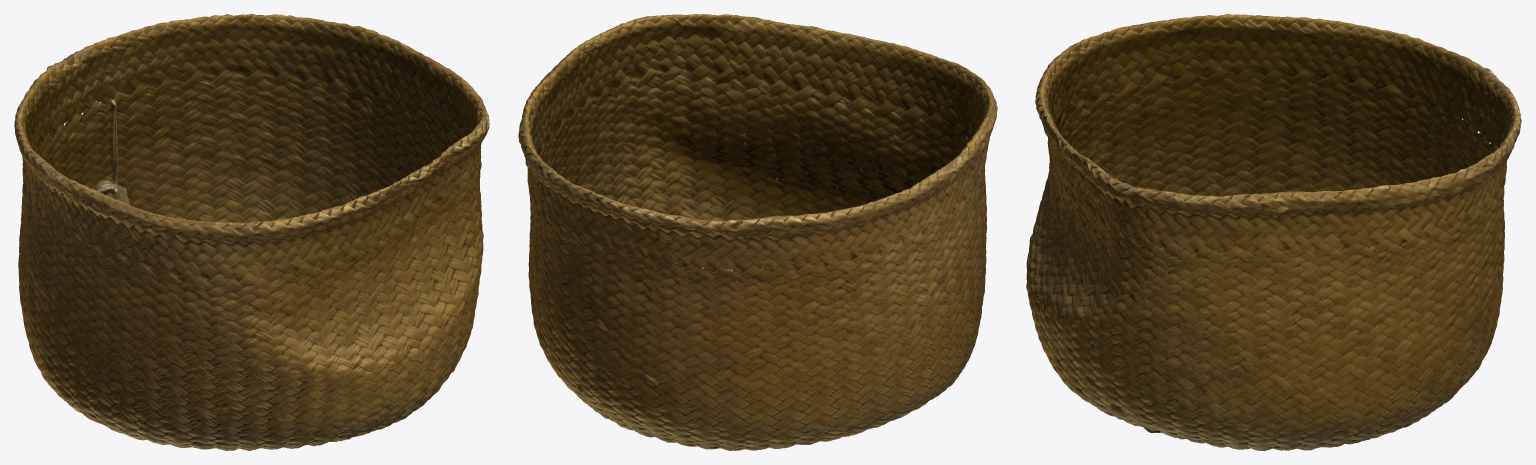
File: basket_compressed.glb
The picture shows the model from 3 angles, left to right: view 1: azimuth 30°, elevation 25°; view 2: azimuth 150°, elevation 25°; view 3: azimuth 270°, elevation 25°; orthographic projection. The views are drawn at different scales.
Parts seen in each view (by area): view 1: Object_2, Object_7, Object_4, Object_6; view 2: Object_6, Object_2, Object_7, Object_4; view 3: Object_2, Object_7, Object_4, Object_6.
Boxes of the visible parts, <box> form: Object_2: <box>16,14,489,433</box>; Object_7: <box>16,112,470,444</box>; Object_4: <box>30,20,481,450</box>; Object_6: <box>14,43,134,381</box>; Object_6: <box>569,117,995,442</box>; Object_2: <box>518,14,848,430</box>; Object_7: <box>702,14,997,329</box>; Object_4: <box>520,143,982,450</box>; Object_2: <box>1026,35,1521,429</box>; Object_7: <box>1026,15,1429,286</box>; Object_4: <box>1075,100,1510,450</box>; Object_6: <box>1222,14,1518,356</box>.
Bounding box in the file's own units: 2.25 × 1.52 × 2.37.
Materials: 4 (4 with a texture image).
